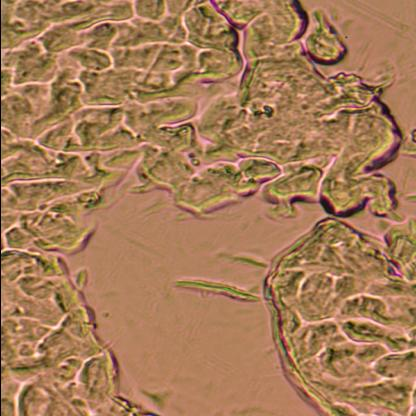Stage I: (0, 10, 377, 204), (268, 213, 416, 416)
